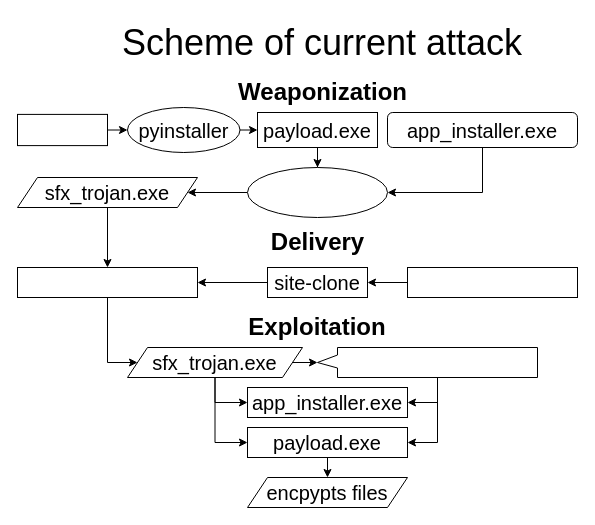
This 595x525 diagram has some shape labels left out. Each missing label, with the centre of its shape:
crypt.py: (x=62, y=129)
Email from "Boss": (x=492, y=282)
Order: "Install this": (x=107, y=282)
Run as administrator: (x=427, y=362)
WinRAR: (x=317, y=192)
